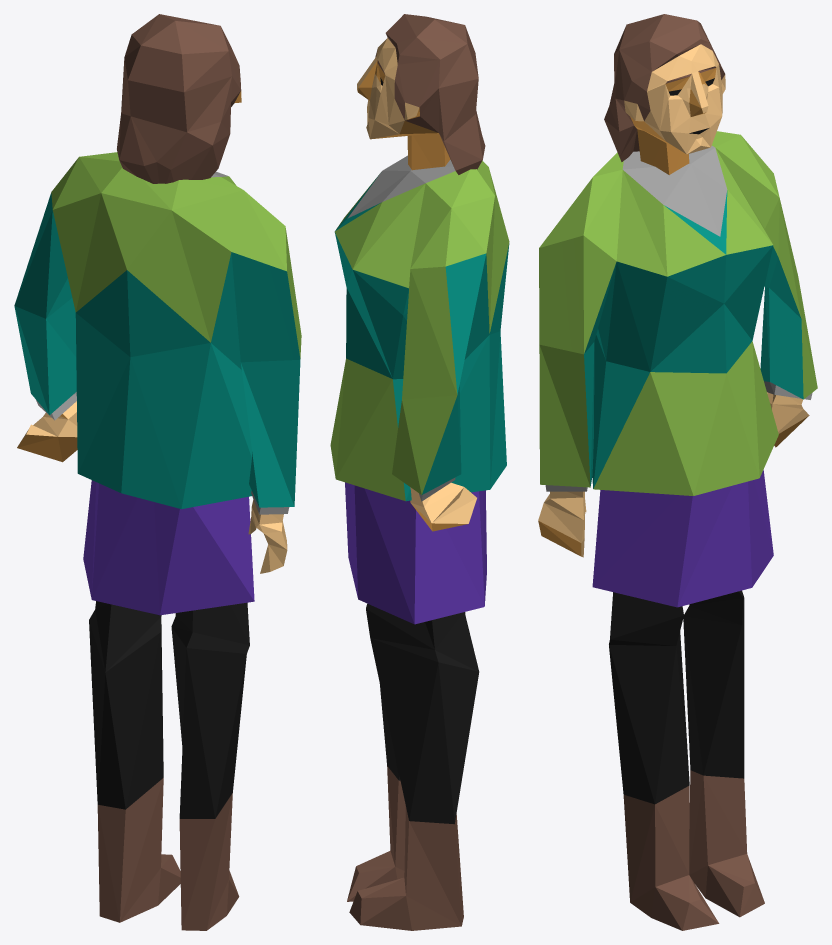
The model's file is woman.fbx.
3 views of the same model, side by side, from view 1: azimuth 30°, elevation 25°; view 2: azimuth 150°, elevation 25°; view 3: azimuth 270°, elevation 25° (orthographic). The views are drawn at different scales.
Parts seen in each view (by area): view 1: group746387980, group1302255902, group1225149354; view 2: group746387980, group1302255902, group1225149354; view 3: group746387980, group1302255902, group1225149354.
Boxes of the visible parts, <box> form: group746387980: <box>14,152,301,615</box>; group1302255902: <box>89,601,249,930</box>; group1225149354: <box>117,14,241,183</box>; group746387980: <box>330,155,509,624</box>; group1302255902: <box>347,603,479,930</box>; group1225149354: <box>357,14,485,174</box>; group746387980: <box>538,131,817,607</box>; group1302255902: <box>609,590,764,930</box>; group1225149354: <box>604,14,725,174</box>.
Bounding box in the file's own units: 510 × 2333 × 670.
